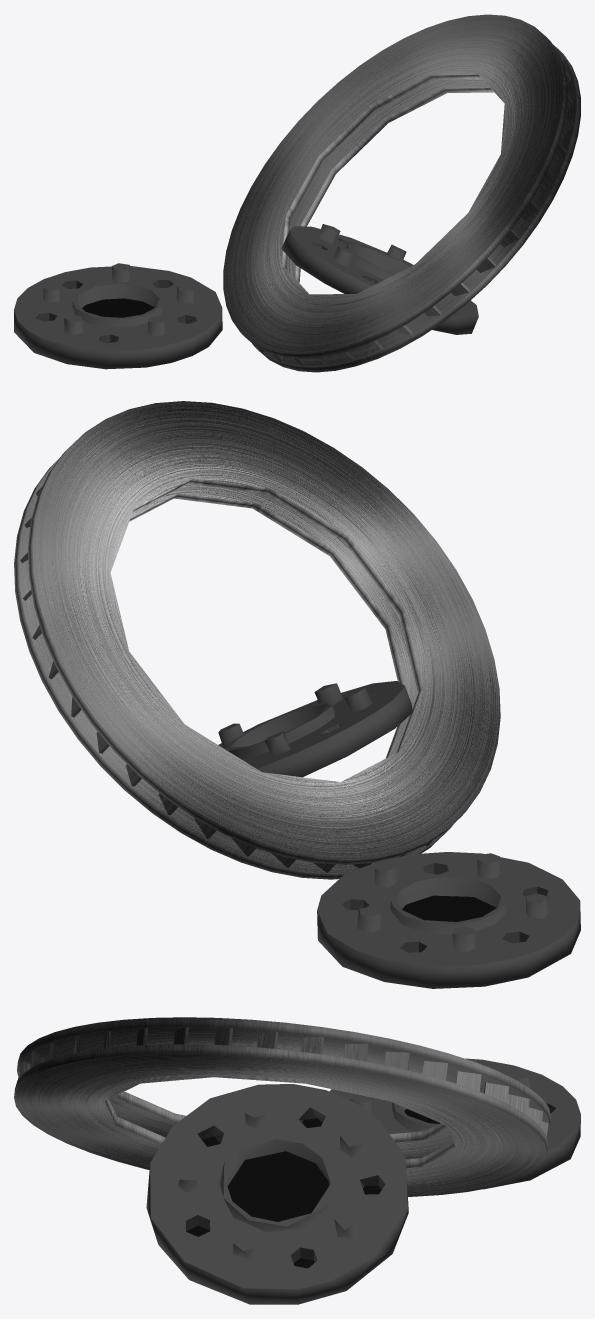
Rendered from Machinery parts.brake disc.fbx.
3 renders of one model, top to bottom at view 1: azimuth 30°, elevation 25°; view 2: azimuth 150°, elevation 25°; view 3: azimuth 270°, elevation 25°, orthographic. The views are drawn at different scales.
Parts seen in each view (by area): view 1: Machinery parts.brake disc; view 2: Machinery parts.brake disc; view 3: Machinery parts.brake disc.
Boxes of the visible parts, x1,y1,x2,y2 form: Machinery parts.brake disc: (14,14,580,372); Machinery parts.brake disc: (14,401,580,988); Machinery parts.brake disc: (14,1017,580,1304).
Size of the model in its own units: 27.23 by 15.18 by 23.14.
